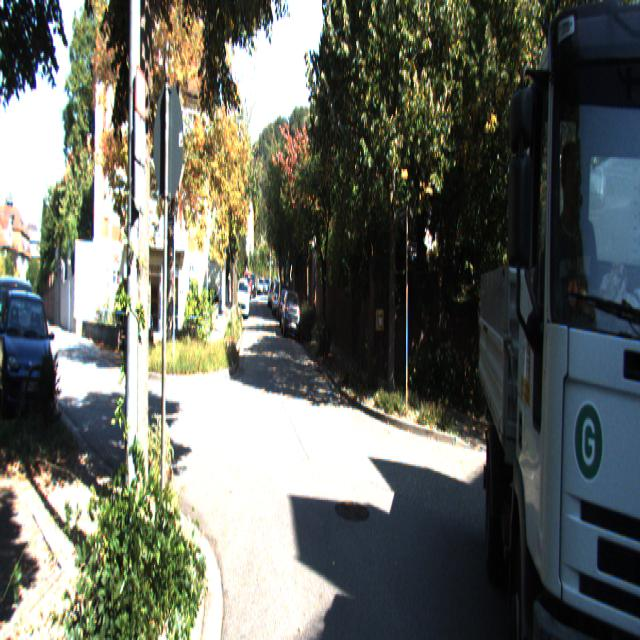Car: (478, 0, 639, 639), (0, 287, 58, 423), (281, 288, 301, 342), (236, 277, 250, 320)
